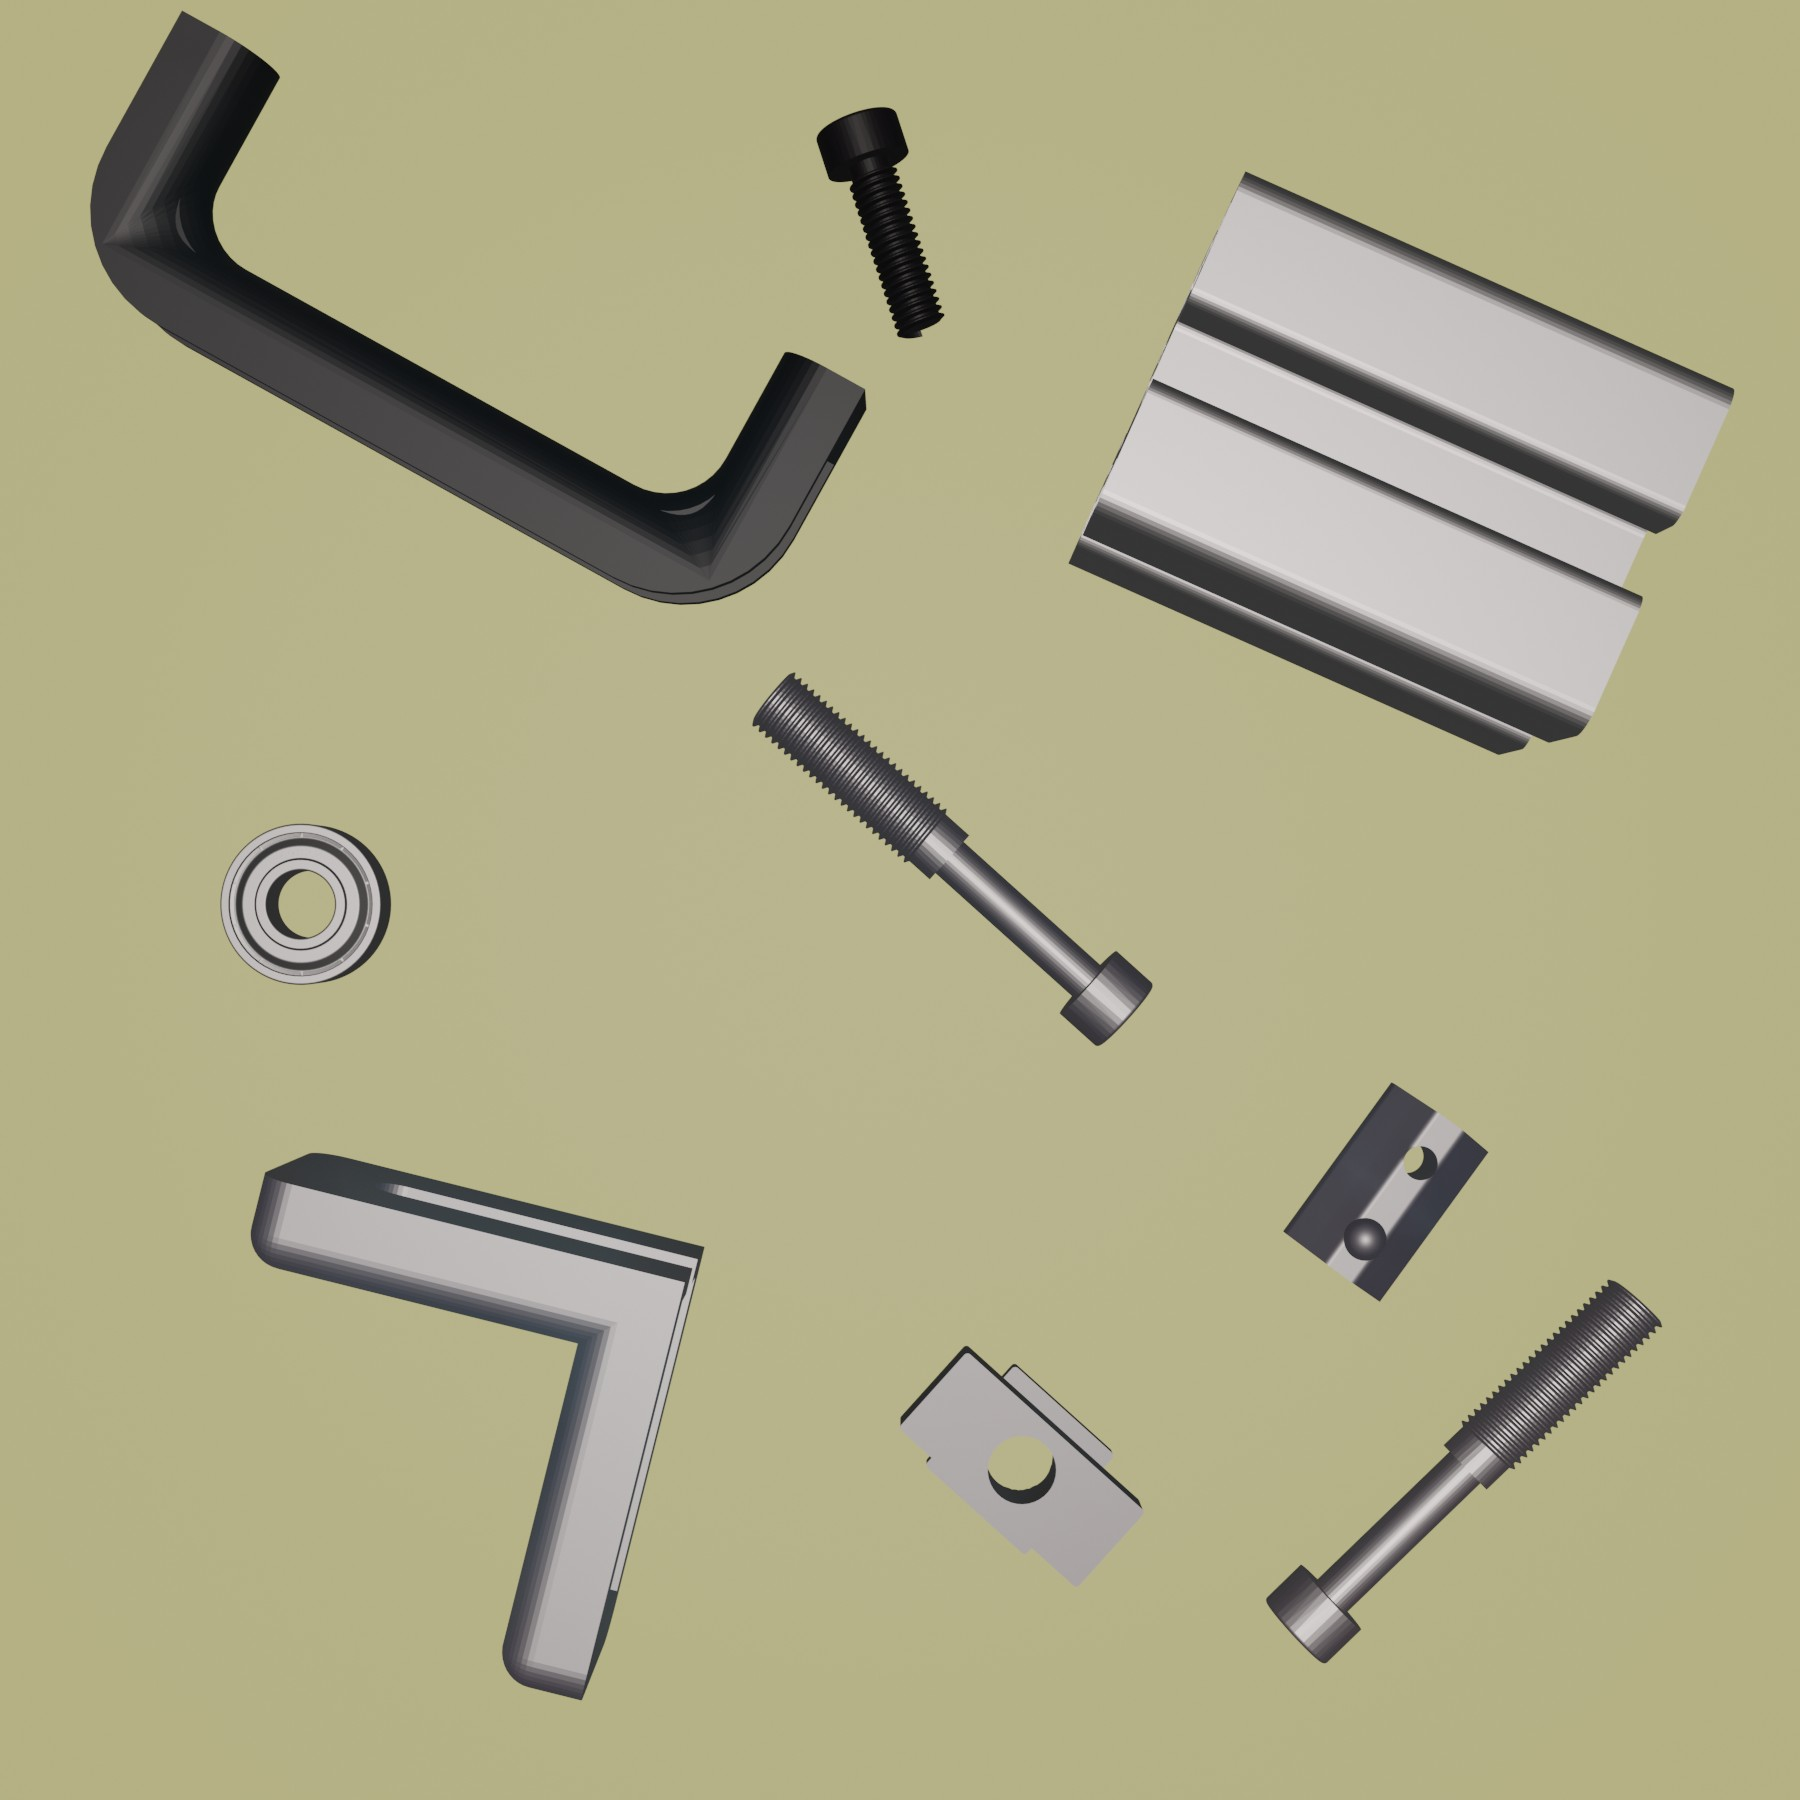Aluminium Extension: (1066, 165, 1737, 758)
Ball Bearing: (218, 818, 392, 987)
Multiwinkel: (247, 1146, 709, 1701)
Pull Handle: (86, 3, 867, 607)
Shoulder Socket Head Cap Screw: (1263, 1273, 1666, 1668), (747, 668, 1155, 1047)
Socket Head Cap Screw: (814, 101, 948, 343)
T Nut Square: (897, 1342, 1144, 1591)
T Spring Nut: (1279, 1076, 1493, 1305)
